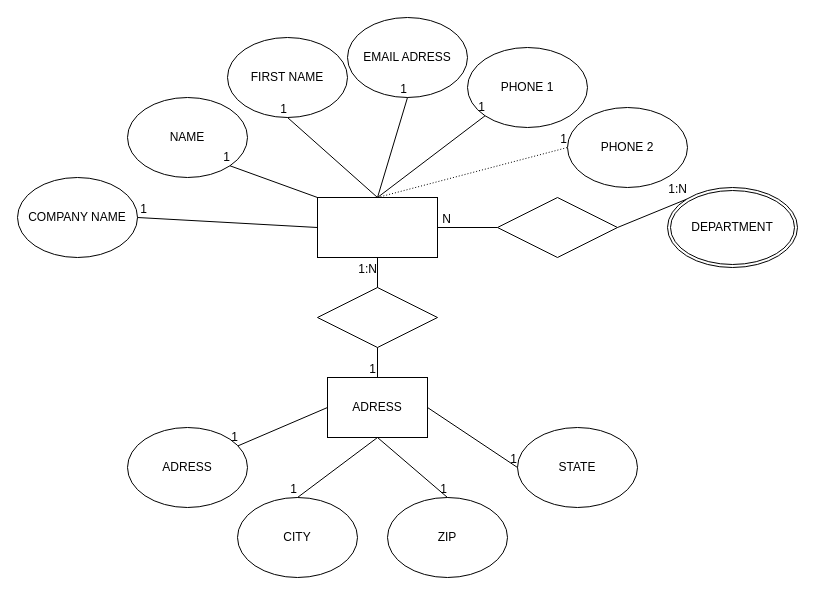
This 815x595 diagram has some shape labels left out. The shapes that lost their labels are listed below. From the top down, each one's centre as x and y in pixels, then its label:
[377,227]: PERSON
[557,227]: WORKS
[377,317]: LIVES
